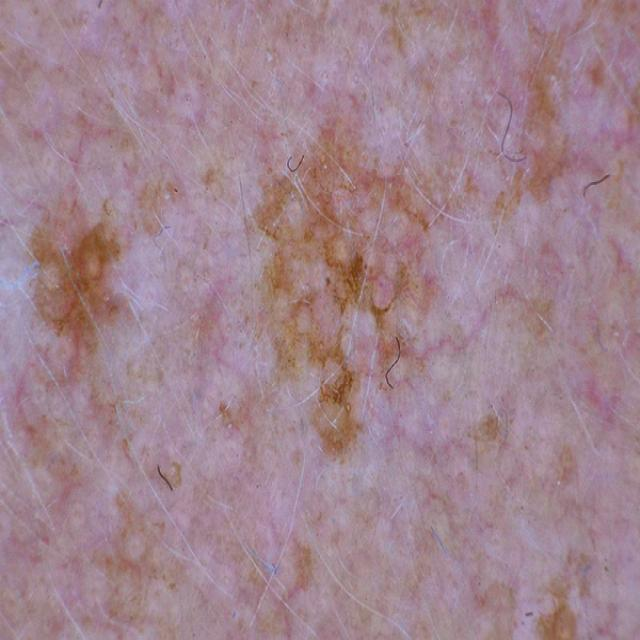Benign-Keratosis-like-Lesions-BKL-: (9, 32, 583, 556)
